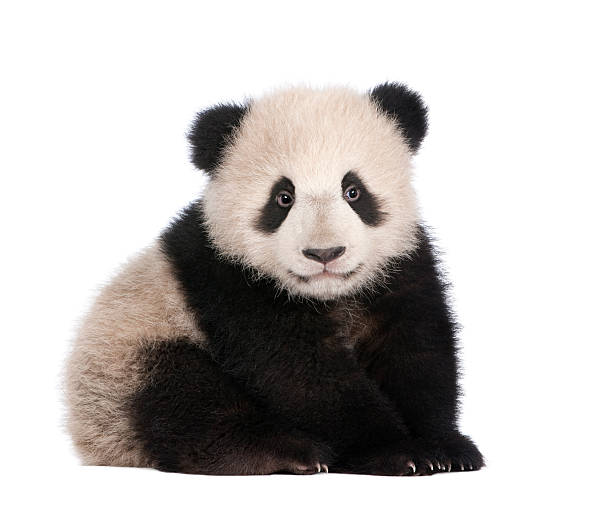panda: (150, 56, 451, 318)
